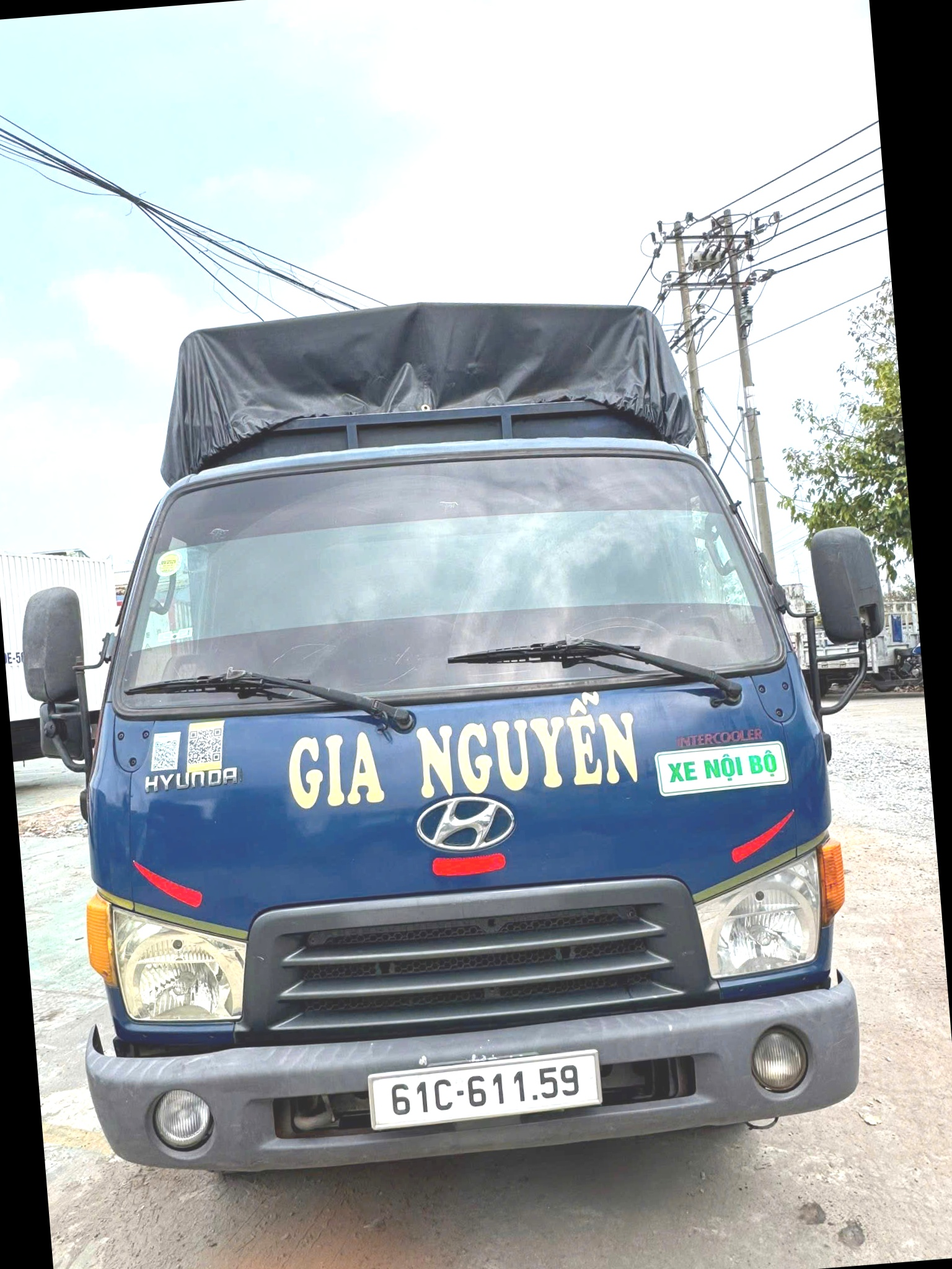Bien-so: (337, 1038, 593, 1109)
